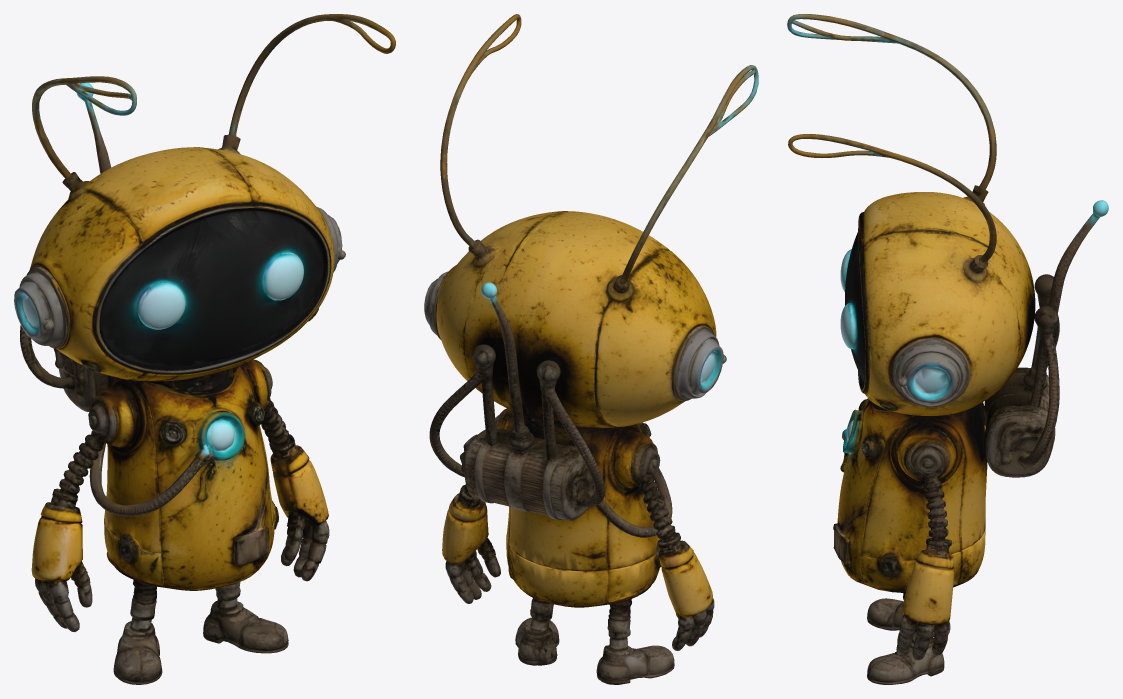
Rendered from modelo.glb.
3 views of the same model, side by side, from view 1: azimuth 30°, elevation 25°; view 2: azimuth 150°, elevation 25°; view 3: azimuth 270°, elevation 25° (orthographic). The views are drawn at different scales.
Visible parts, largest first — view 1: material; view 2: material; view 3: material.
Boxes of the visible parts, x1,y1,x2,y2 form: material: (14,14,395,684); material: (424,14,758,684); material: (787,14,1108,684).
Size of the model in its own units: 0.5104 by 1.02 by 0.5106.
1 material, 1 textured.
